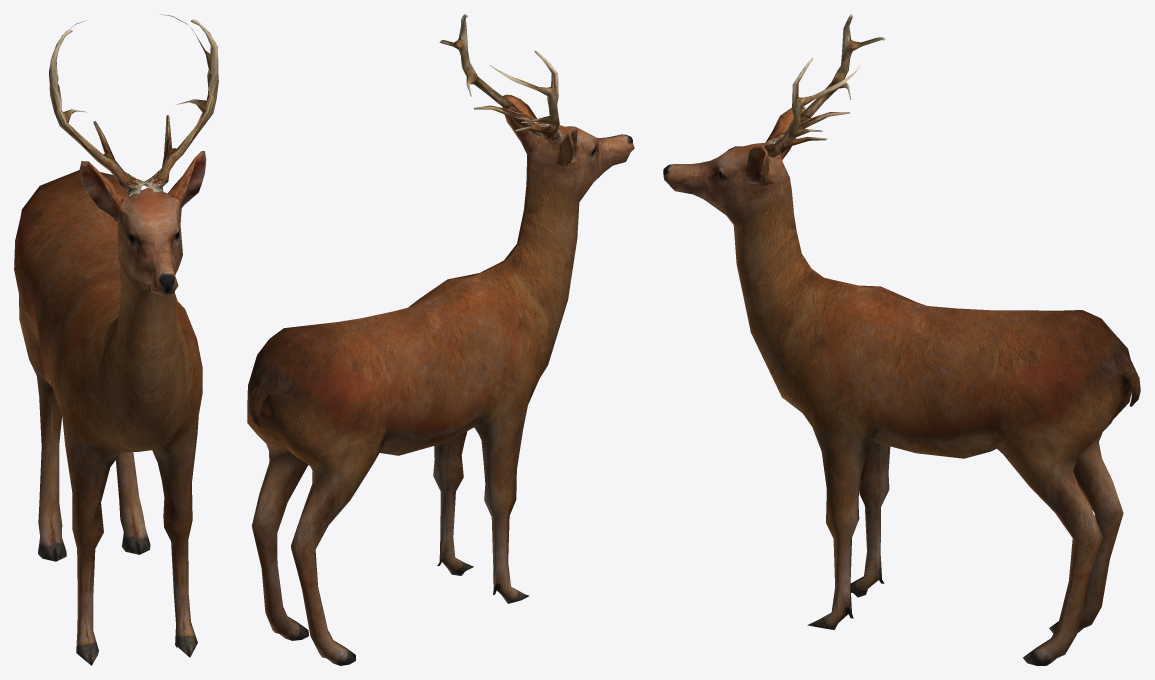
File: Barrels2.obj
The picture shows the model from 3 angles, left to right: view 1: azimuth 30°, elevation 25°; view 2: azimuth 150°, elevation 25°; view 3: azimuth 270°, elevation 25°; orthographic projection. The views are drawn at different scales.
Parts seen in each view (by area): view 1: _000_Deer.001; view 2: _000_Deer.001; view 3: _000_Deer.001.
Boxes of the visible parts, x1,y1,x2,y2 form: _000_Deer.001: [14, 14, 218, 665]; _000_Deer.001: [247, 14, 634, 665]; _000_Deer.001: [663, 14, 1140, 665].
Bounding box in the file's own units: 0.7038 × 1.93 × 1.46.
